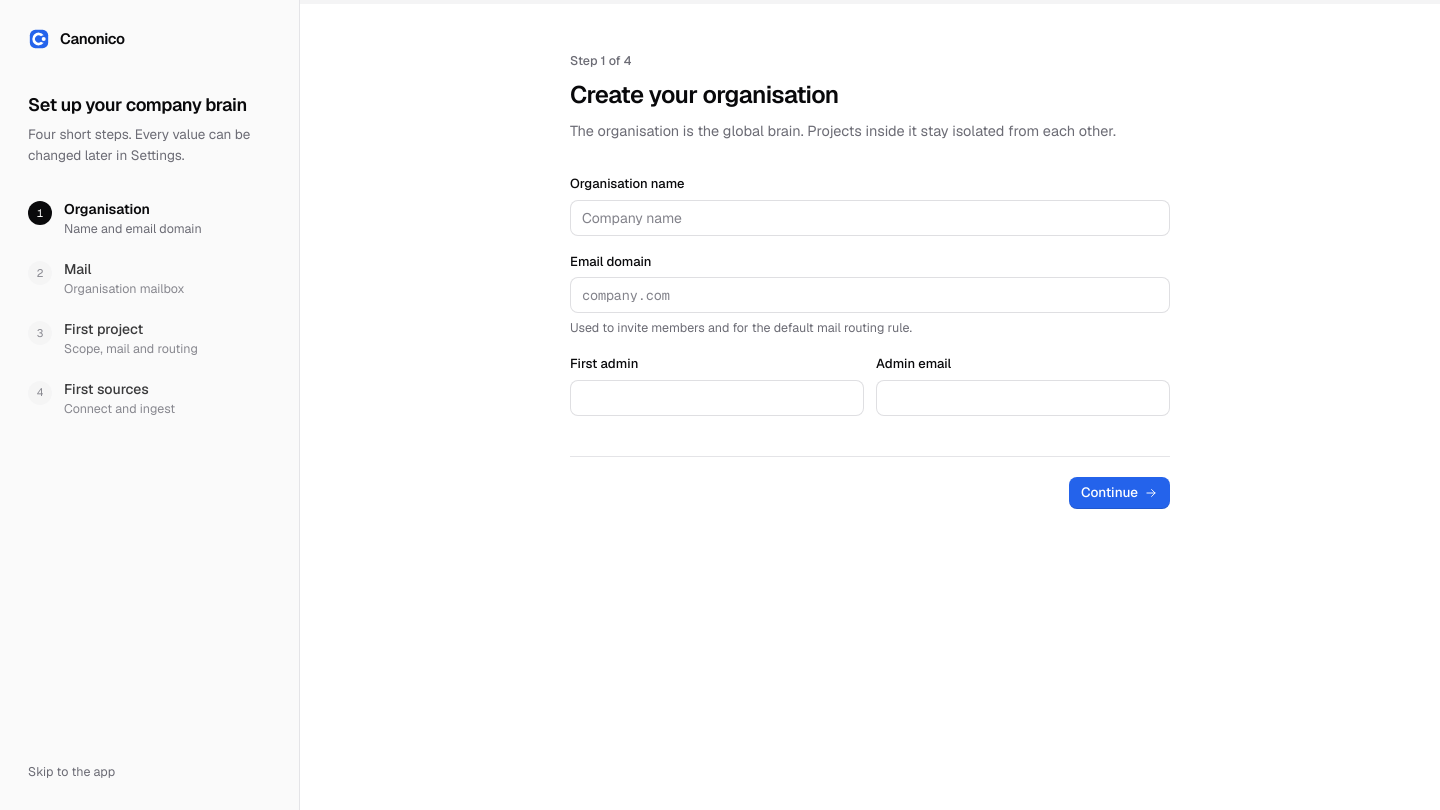
Setup › step 1: the organisation › asks for every field before sending anything
Check: the text "Used to invite members and for the default mail routing rule." is shown, box [570, 319, 912, 336]
Click the button "Continue" at (1120, 493), box [1069, 477, 1170, 509]
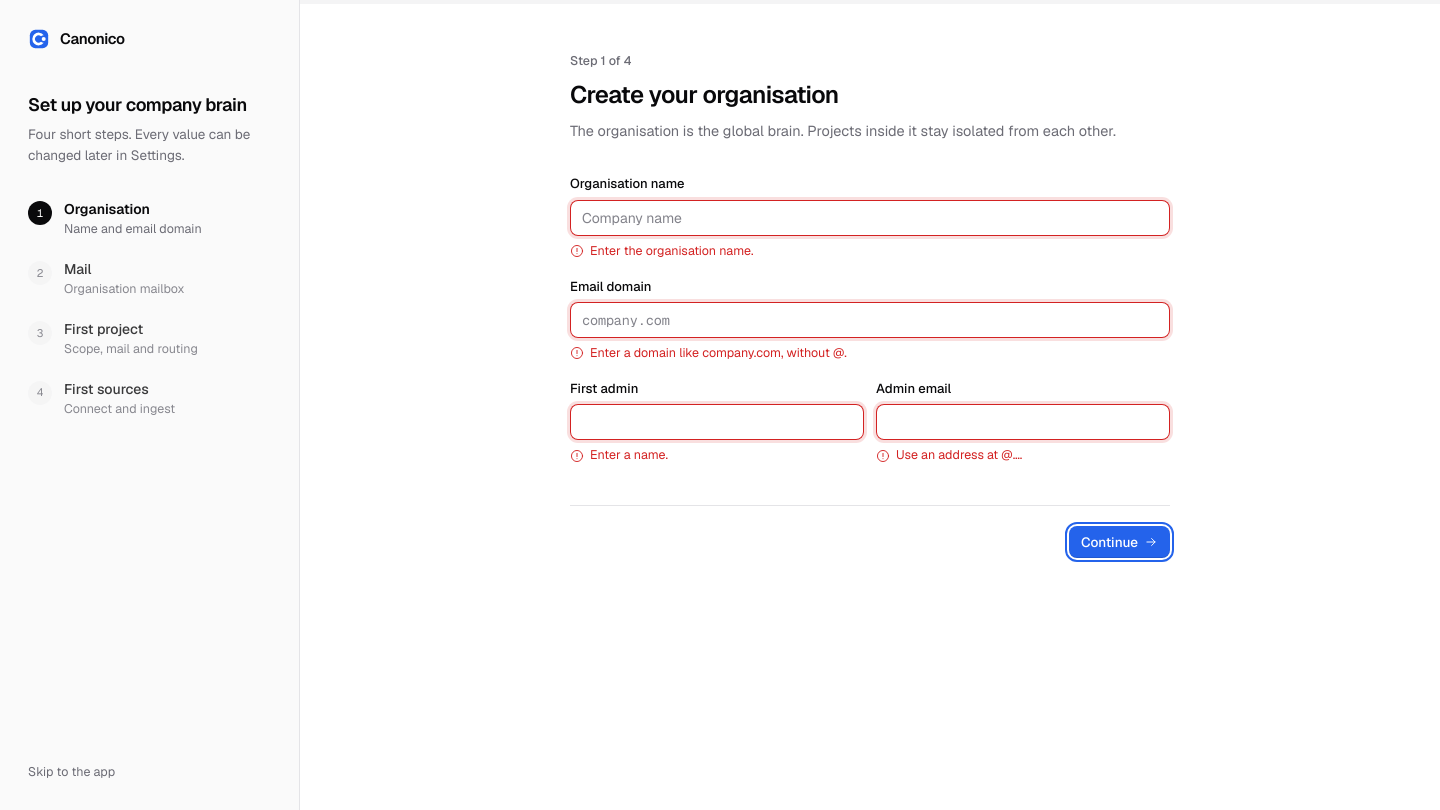
Check: the text "Enter the organisation name." is shown, box [570, 242, 754, 259]
Check: the text "Enter a domain like company.com, without @." is shown, box [570, 344, 847, 361]
Check: the text "Enter a name." is shown, box [570, 446, 668, 463]
